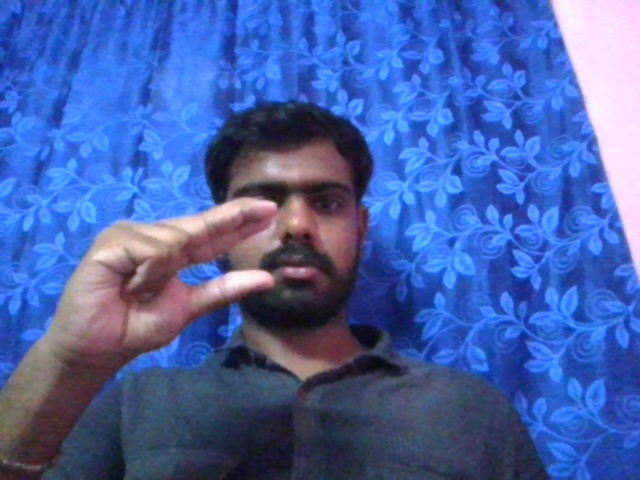No: (56, 190, 278, 366)
